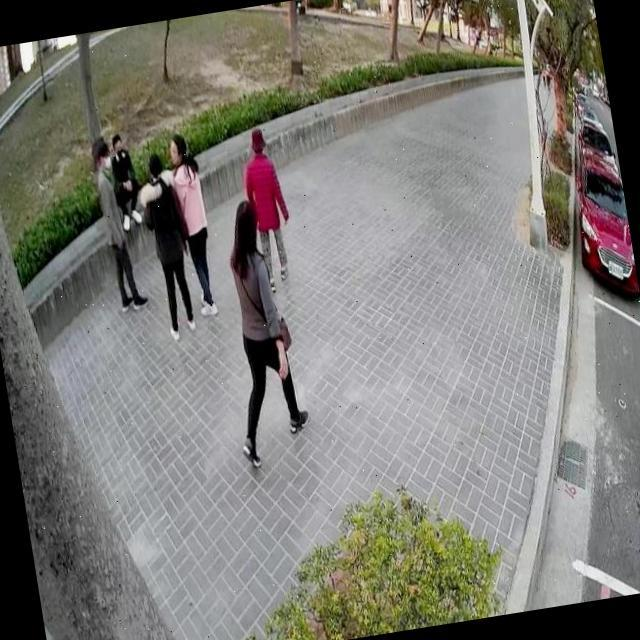person: (200, 189, 318, 473), (128, 145, 205, 346), (233, 118, 303, 300), (162, 123, 225, 321), (87, 132, 151, 318), (102, 128, 148, 234), (541, 65, 553, 93), (538, 62, 550, 90)
